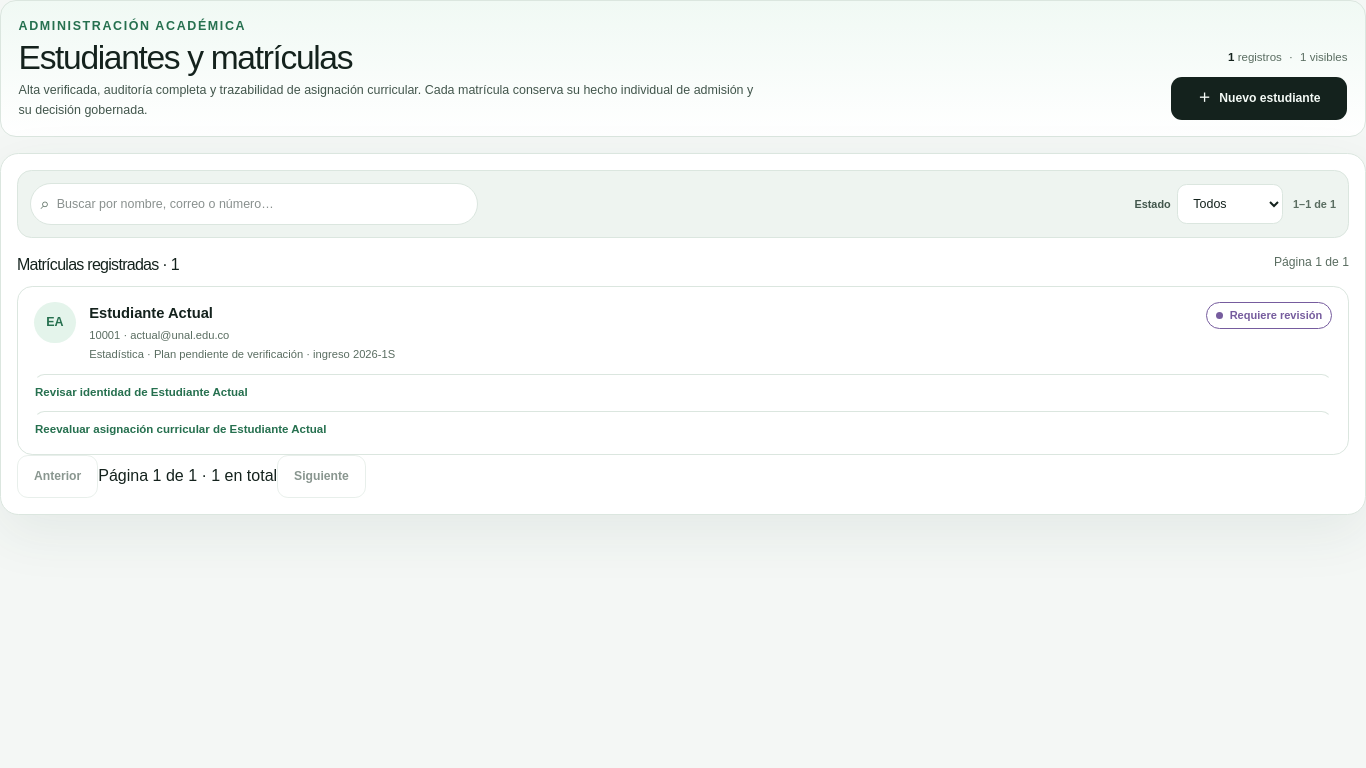
Test: StudentAdministrationWorkspace › prepares, independently approves, and applies a sealed curriculum override
Click the heading "Reevaluar asignación curricular de Estudiante Actual" at (181,429), box [35,423,326,435]
(page scrolled)
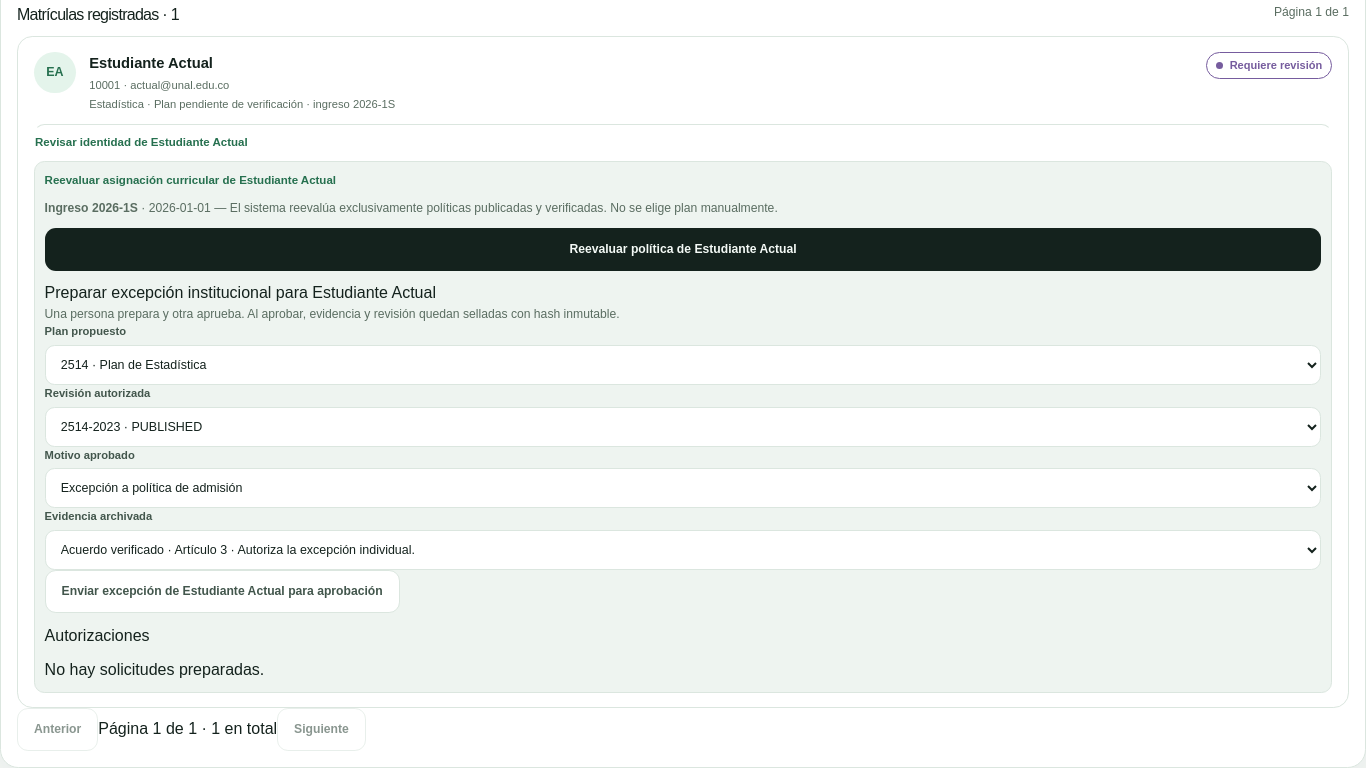
Click the button "Enviar excepción de Estudiante Actual para aprobación" at (222,592), box [45,570,400,613]
(page scrolled)
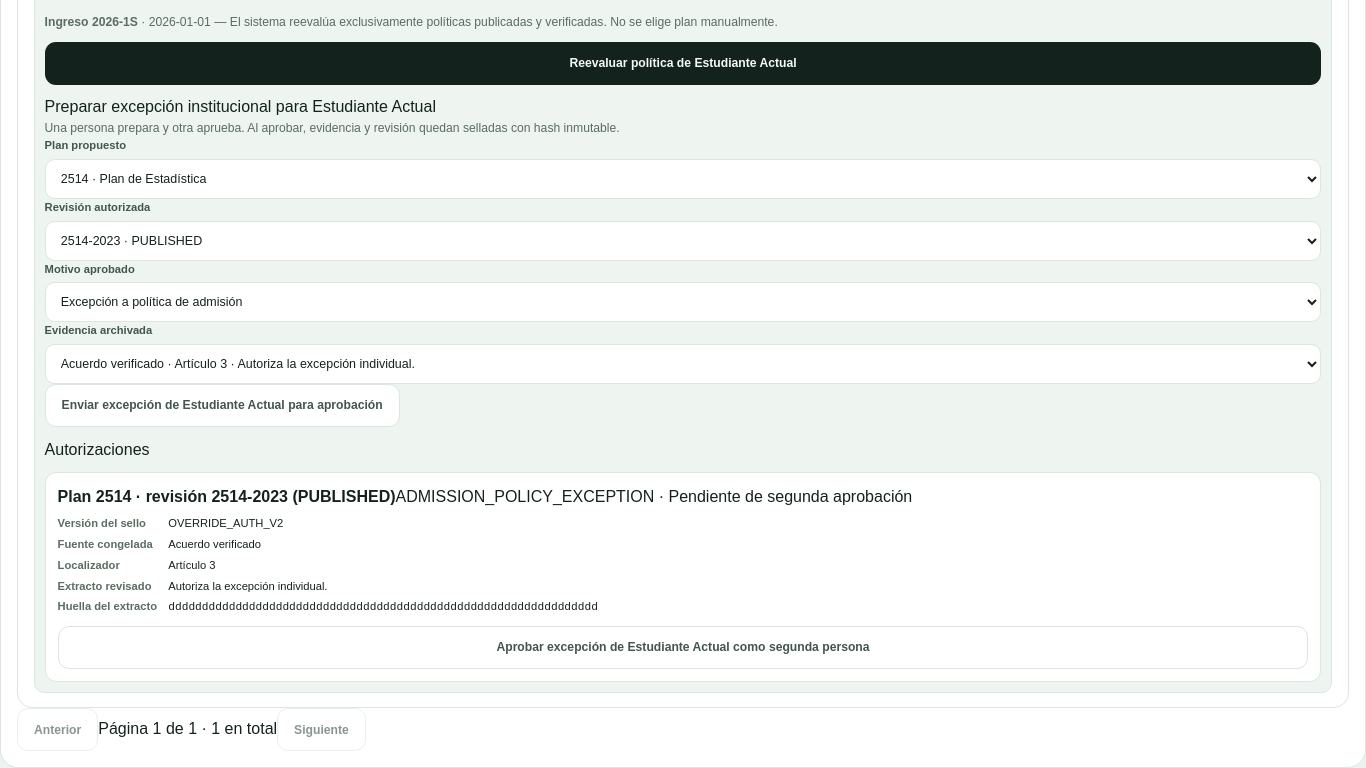
Expected: the text "ADMISSION_POLICY_EXCEPTION · Pendiente de segunda aprobación" is shown, [396,488,912,505]
Expected: the button "Aprobar excepción de Estudiante Actual como segunda persona" is enabled
Click the button "Aprobar excepción de Estudiante Actual como segunda persona" at (683,648), box [58,626,1308,669]
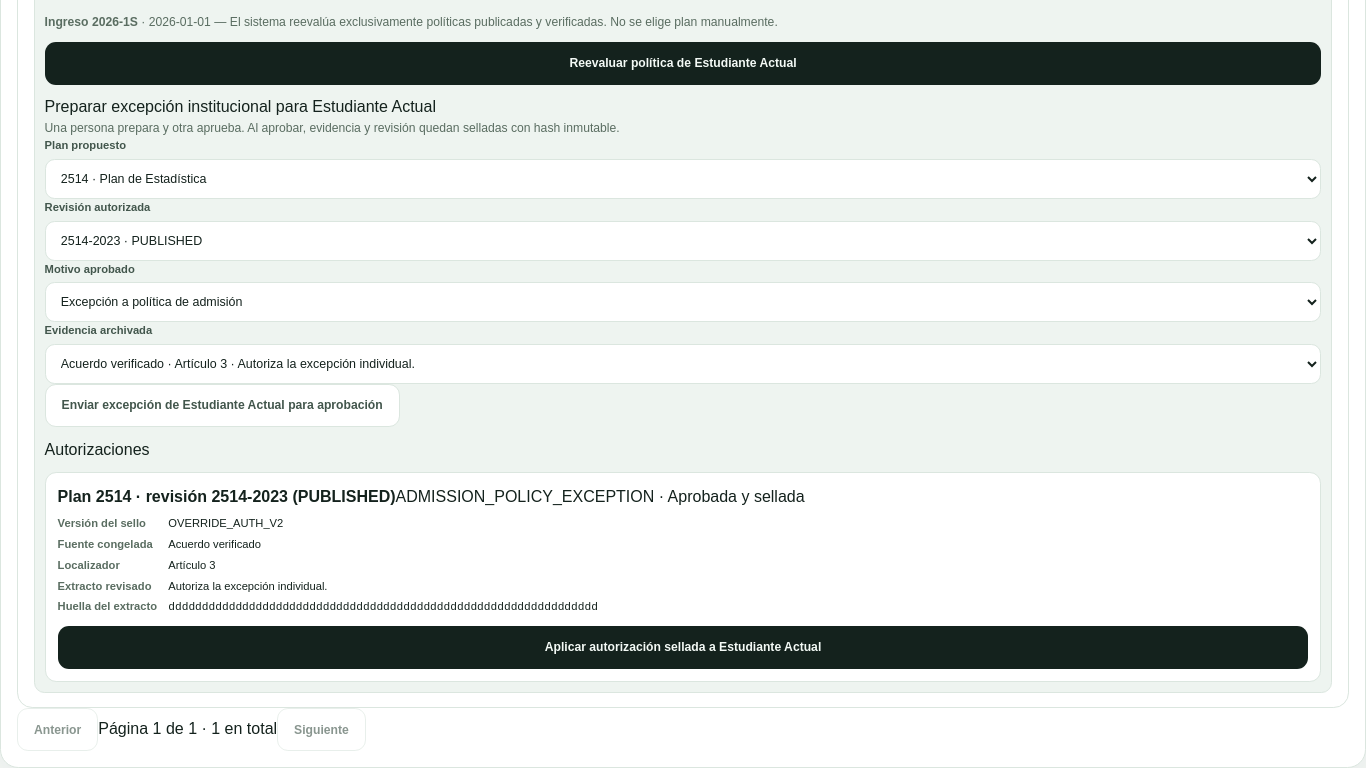
Expected: the text "Autoriza la excepción individual." is shown, [168,580,328,592]
Expected: the button "Aplicar autorización sellada a Estudiante Actual" is enabled
Expected: the text "ADMISSION_POLICY_EXCEPTION · Aprobada y sellada" is shown, [396,488,805,505]
Click the button "Aplicar autorización sellada a Estudiante Actual" at (683,648), box [58,626,1308,669]
(page scrolled)
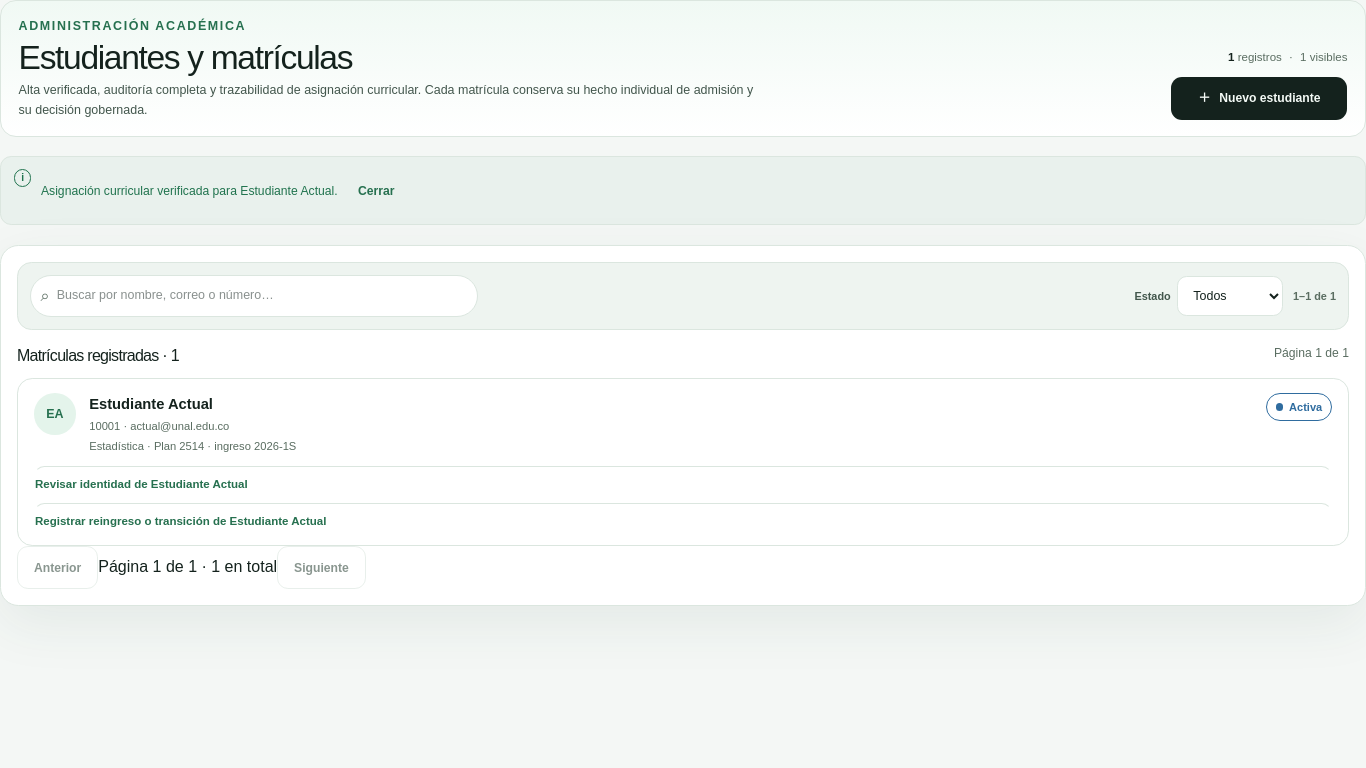
Expected: the text "Asignación curricular verificada para Estudiante Actual." is shown, [41,184,338,198]
